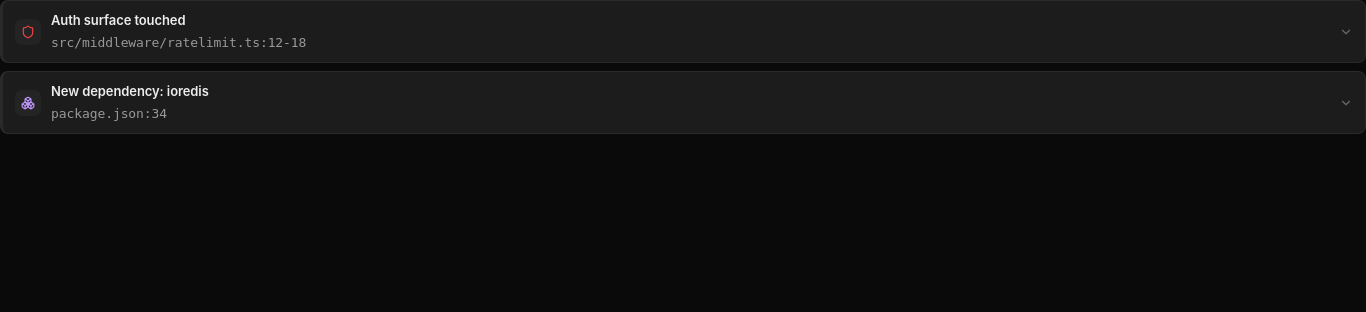
RiskAreasList › each row expands independently; expanding a second row does not collapse the first
This screenshot has width=1366, height=312.
Click the text "Auth surface touched" at (118, 20), box 51,12 -> 186,28
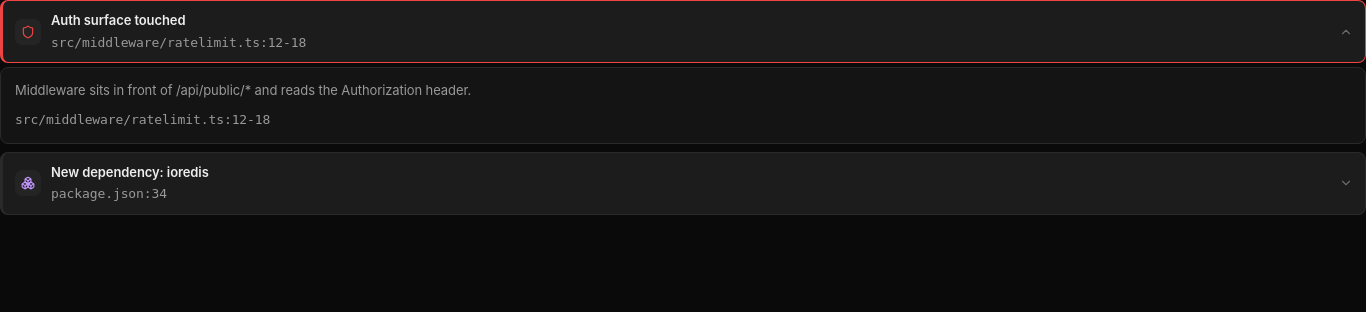
Check: the text "Middleware sits in front of /api/public/* and reads the Authorization header." is shown, box 15,82 -> 471,98
Click the text "New dependency: ioredis" at (130, 172), box 51,164 -> 209,180
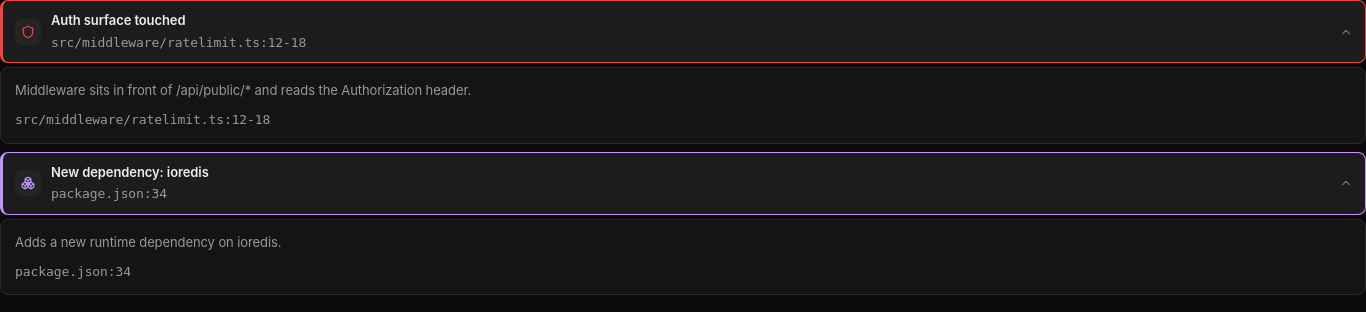
Check: the text "Middleware sits in front of /api/public/* and reads the Authorization header." is shown, box 15,82 -> 471,98
Check: the text "Adds a new runtime dependency on ioredis." is shown, box 15,234 -> 282,250
